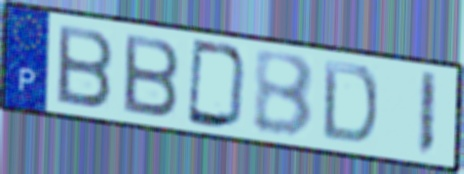B: (252, 50, 317, 141), (121, 30, 183, 120), (55, 21, 116, 111)
D: (184, 36, 251, 132), (319, 57, 381, 147)
I: (414, 69, 439, 161)
